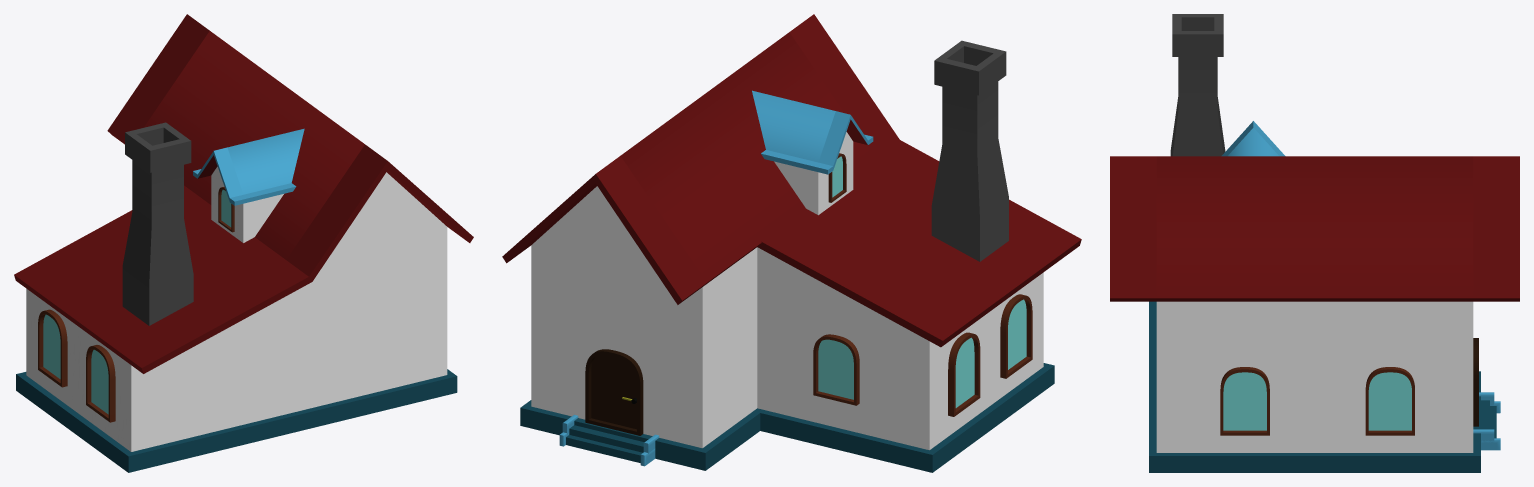
Rendered from dom4.fbx.
3 renders of one model, left to right at view 1: azimuth 30°, elevation 25°; view 2: azimuth 150°, elevation 25°; view 3: azimuth 270°, elevation 25°, orthographic. The views are drawn at different scales.
Parts seen in each view (by area): view 1: dom 4 (×6); view 2: dom 4 (×10); view 3: dom 4 (×8).
Boxes of the visible parts, x1,y1,x2,y2 form: dom 4 (×6): (14, 14, 473, 472); dom 4 (×10): (502, 14, 1081, 472); dom 4 (×8): (1110, 14, 1519, 472).
Size of the model in its own units: 133 by 116 by 139.
